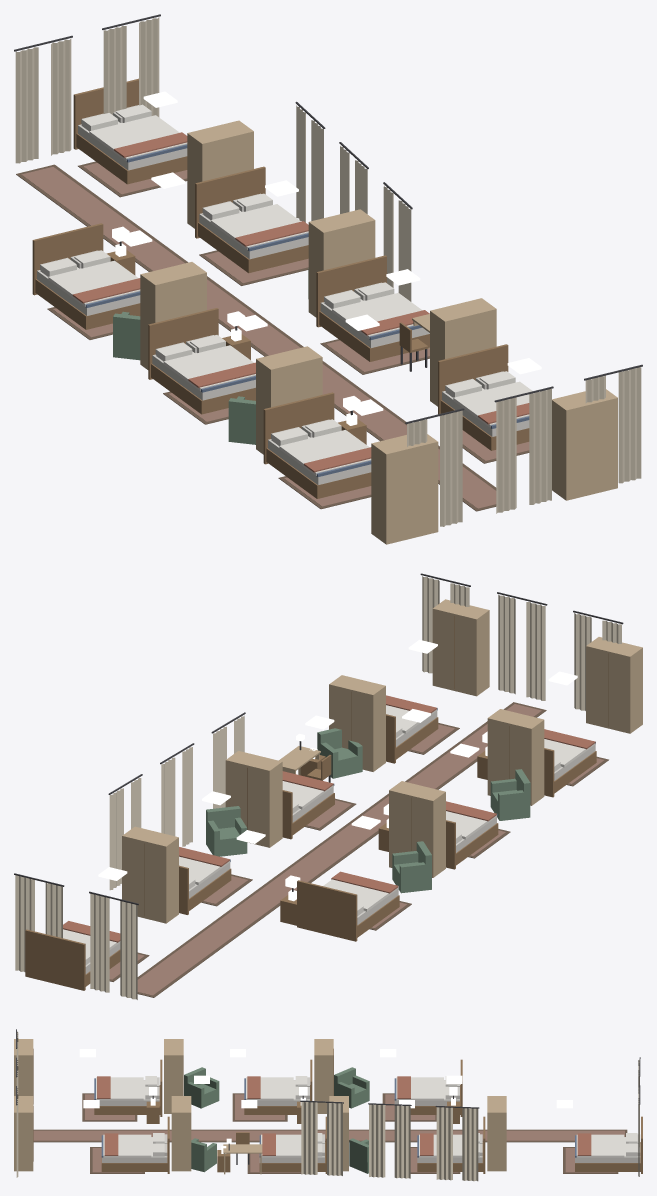
Rendered from fine-s3.glb.
The picture shows the model from 3 angles, top to bottom: view 1: azimuth 30°, elevation 25°; view 2: azimuth 150°, elevation 25°; view 3: azimuth 270°, elevation 25°; orthographic projection. The views are drawn at different scales.
Parts seen in each view (by area): view 1: soft-s3, dresser.016, dresser.020, bed-frame.018, bed-frame.016, bed-frame.014, bed-frame.015, bed-frame.019, bed-frame.017, dresser.018, dresser.014, dresser.017 (+5 smaller); view 2: soft-s3, dresser.020, dresser.016, dresser.017, dresser.018, dresser.015, dresser.019, dresser.014, bed-frame.014, bed-frame.017, lounge-chair.010, lounge-chair.009 (+8 smaller); view 3: soft-s3, dresser.019, dresser.017, dresser.020, dresser.014, bed-frame.020, dresser.015, bed-frame.017, bed-frame.016, dresser.016, lounge-chair.008, bed-frame.019 (+10 smaller).
Part boxes in pixels (left/top/right/bottom): soft-s3: left=14, top=14, right=642, bottom=526; dresser.016: left=371, top=434, right=438, bottom=544; dresser.020: left=552, top=389, right=617, bottom=500; bed-frame.018: left=195, top=166, right=308, bottom=273; bed-frame.016: left=263, top=392, right=371, bottom=498; bed-frame.014: left=32, top=223, right=140, bottom=329; bed-frame.015: left=148, top=308, right=255, bottom=414; bed-frame.019: left=316, top=255, right=429, bottom=361; bed-frame.017: left=73, top=78, right=187, bottom=184; dresser.018: left=308, top=209, right=375, bottom=317; dresser.014: left=140, top=262, right=206, bottom=369; dresser.017: left=187, top=120, right=253, bottom=228; soft-s3: left=14, top=573, right=623, bottom=999; dresser.020: left=432, top=599, right=489, bottom=696; dresser.016: left=586, top=637, right=642, bottom=733; dresser.017: left=122, top=826, right=178, bottom=923; dresser.018: left=225, top=751, right=282, bottom=847; dresser.015: left=487, top=709, right=544, bottom=805; dresser.019: left=329, top=675, right=385, bottom=771; dresser.014: left=389, top=781, right=445, bottom=877; bed-frame.014: left=297, top=880, right=399, bottom=941; bed-frame.017: left=25, top=929, right=120, bottom=990; lounge-chair.010: left=206, top=806, right=247, bottom=856; lounge-chair.009: left=490, top=769, right=530, bottom=820; soft-s3: left=16, top=1029, right=640, bottom=1181; dresser.019: left=171, top=1096, right=191, bottom=1171; dresser.017: left=487, top=1096, right=506, bottom=1171; dresser.020: left=14, top=1096, right=33, bottom=1171; dresser.014: left=314, top=1039, right=333, bottom=1113; bed-frame.020: left=101, top=1116, right=169, bottom=1173; dresser.015: left=164, top=1039, right=183, bottom=1113; bed-frame.017: left=575, top=1116, right=642, bottom=1173; bed-frame.016: left=94, top=1059, right=162, bottom=1116; dresser.016: left=14, top=1039, right=33, bottom=1104; lounge-chair.008: left=334, top=1067, right=369, bottom=1108; bed-frame.019: left=259, top=1116, right=326, bottom=1173.
Size of the model in its own units: 6.53 by 2.56 by 19.42.
